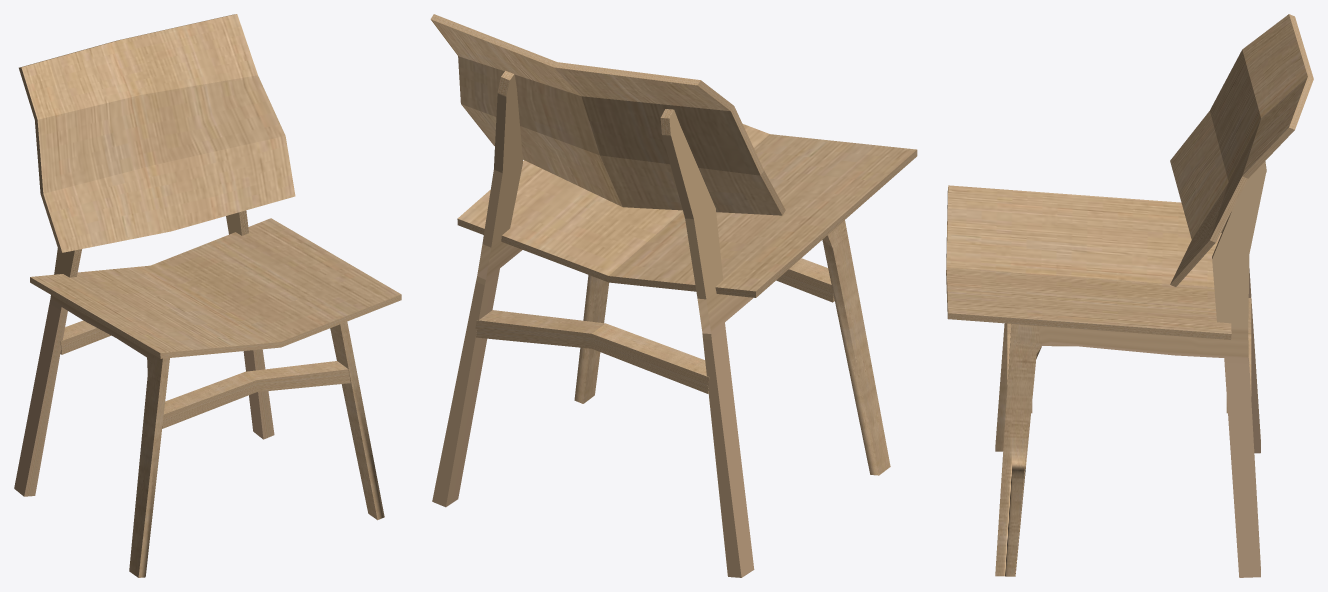
Rendered from Stoel.glb.
The picture shows the model from 3 angles, left to right: view 1: azimuth 30°, elevation 25°; view 2: azimuth 150°, elevation 25°; view 3: azimuth 270°, elevation 25°; orthographic projection. The views are drawn at different scales.
Parts seen in each view (by area): view 1: backsupport, seat, legs, frontsupportbeam, backsupportbeam; view 2: backsupport, seat, legs, backsupportbeam, frontsupportbeam; view 3: seat, legs, backsupport.
Part boxes in pixels (x1=…): backsupport: x1=19, y1=14, x2=295, y2=252; seat: x1=30, y1=218, x2=401, y2=358; legs: x1=14, y1=210, x2=384, y2=577; frontsupportbeam: x1=162, y1=361, x2=350, y2=428; backsupportbeam: x1=60, y1=320, x2=110, y2=354; backsupport: x1=430, y1=14, x2=785, y2=215; seat: x1=457, y1=124, x2=917, y2=297; legs: x1=432, y1=70, x2=890, y2=577; backsupportbeam: x1=475, y1=310, x2=709, y2=393; frontsupportbeam: x1=776, y1=258, x2=834, y2=302; seat: x1=946, y1=185, x2=1231, y2=339; legs: x1=995, y1=161, x2=1266, y2=577; backsupport: x1=1170, y1=14, x2=1313, y2=286.
Bounding box in the file's own units: 2.68 × 4.19 × 3.13.
Materials: 5 (5 with a texture image).
